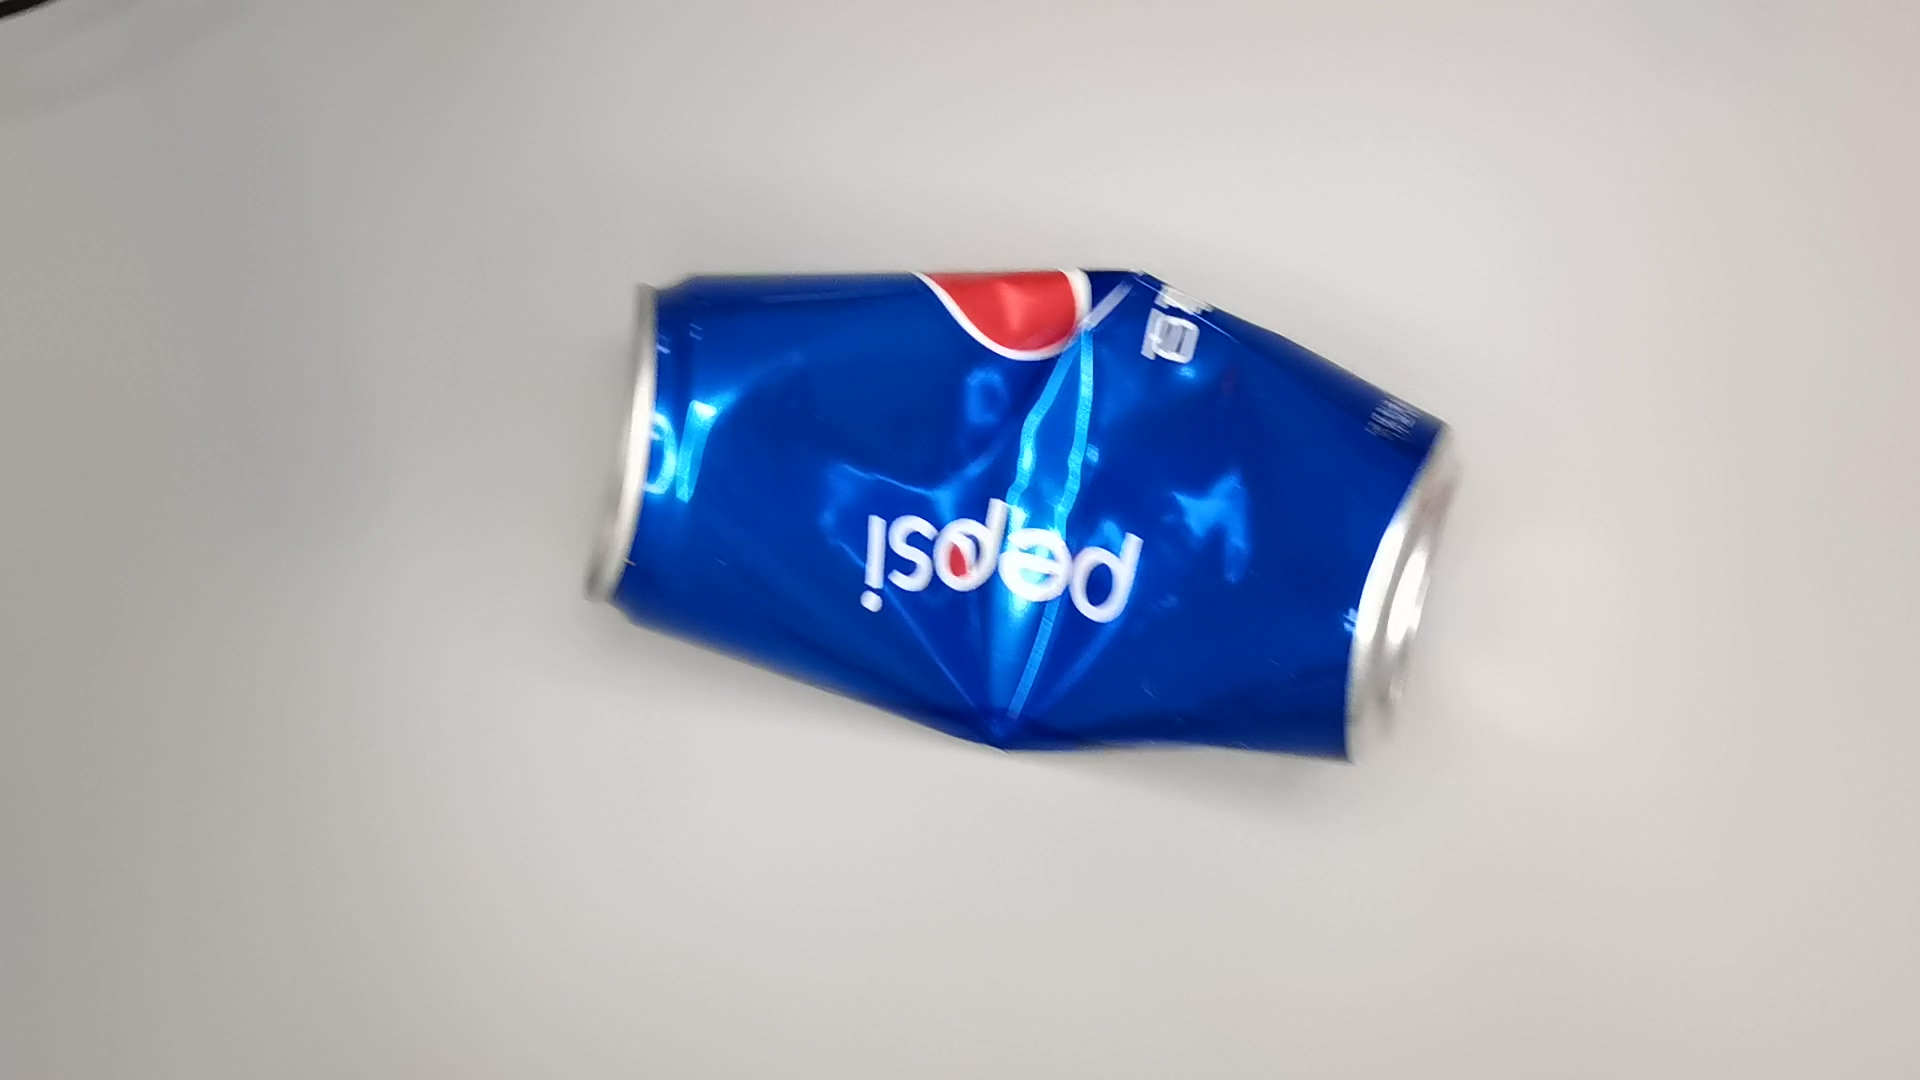can: (574, 253, 1469, 796)
